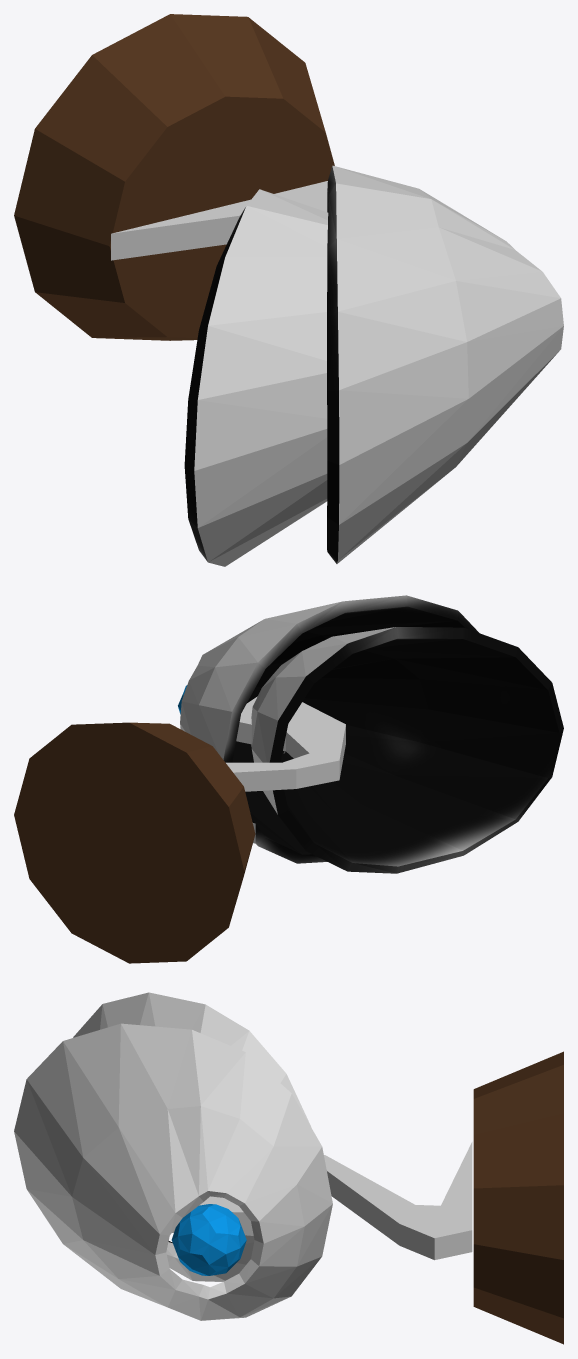
Rendered from emitter.obj.
3 views of the same model, one above another, from view 1: azimuth 30°, elevation 25°; view 2: azimuth 150°, elevation 25°; view 3: azimuth 270°, elevation 25° (orthographic). The views are drawn at different scales.
Visible parts, largest first — view 1: Cylinder_Cylinder_Material.001, Cone_Cone_cover, Cone.001_Cone.001_cover, Plane_Plane_Material.003; view 2: Cone.001_Cone.001_cover, Cylinder_Cylinder_Material.001, Cone_Cone_cover, Plane_Plane_Material.003; view 3: Cone_Cone_cover, Cylinder_Cylinder_Material.001, Plane_Plane_Material.003, Cone.001_Cone.001_cover, Icosphere_Icosphere_ball.
Part boxes in pixels (x1,y1,x2,y2): Cylinder_Cylinder_Material.001: [14, 14, 334, 340]; Cone_Cone_cover: [327, 165, 563, 563]; Cone.001_Cone.001_cover: [184, 189, 328, 566]; Plane_Plane_Material.003: [111, 181, 327, 260]; Cone.001_Cone.001_cover: [250, 627, 563, 873]; Cylinder_Cylinder_Material.001: [14, 722, 255, 963]; Cone_Cone_cover: [180, 595, 478, 863]; Plane_Plane_Material.003: [226, 696, 345, 843]; Cone_Cone_cover: [14, 1023, 332, 1320]; Cylinder_Cylinder_Material.001: [473, 1051, 563, 1344]; Plane_Plane_Material.003: [172, 1142, 472, 1260]; Cone.001_Cone.001_cover: [73, 992, 310, 1281]; Icosphere_Icosphere_ball: [171, 1204, 246, 1275].
Bounding box in the file's own units: 1.57 × 1.2 × 2.08.
